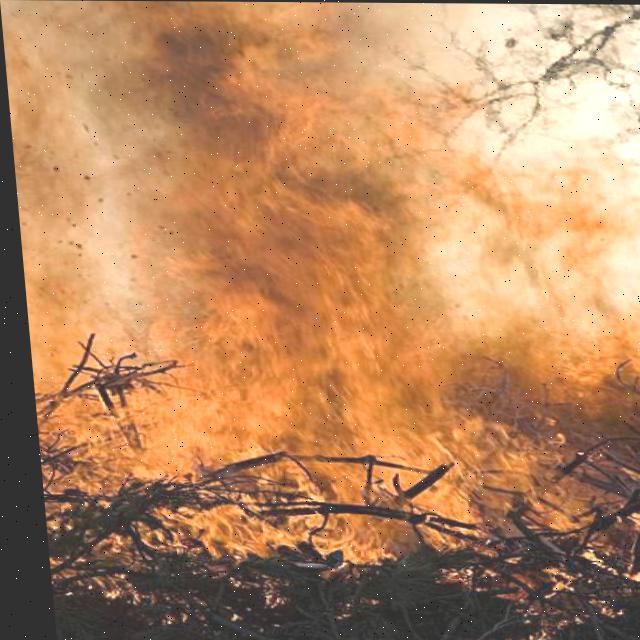Fire: (13, 98, 639, 581)
